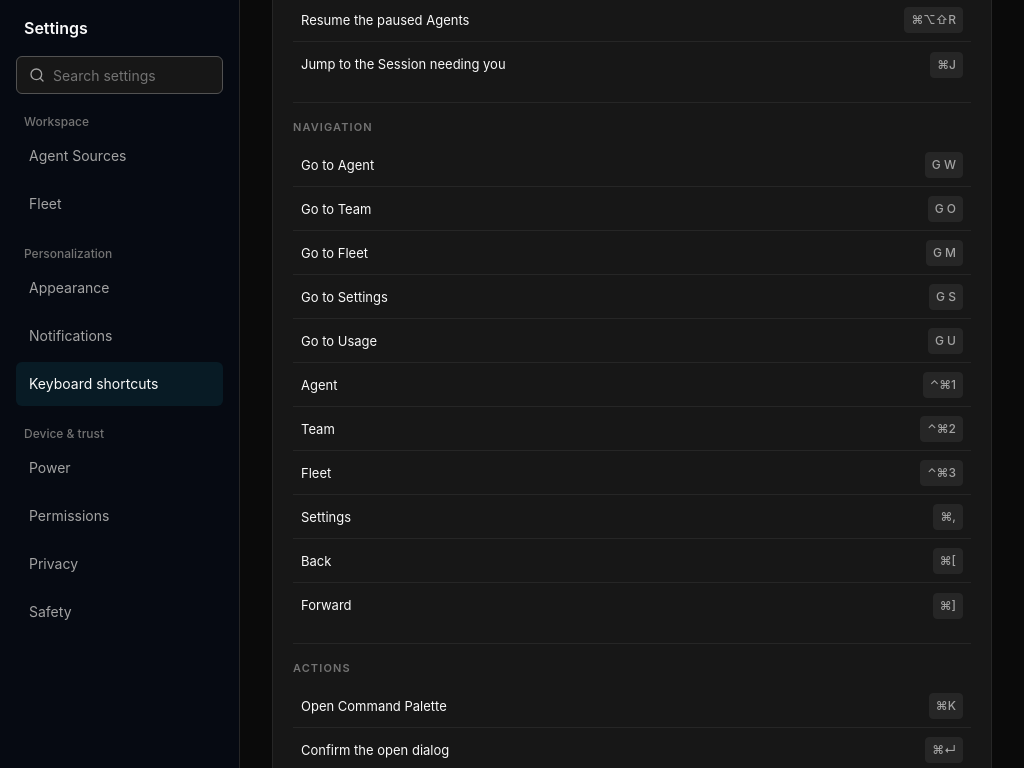
Test case: shortcut settings policy › blocks a combo the machine VERIFIABLY reserves, with the System Settings pointer
(page scrolled)
Click the button "⌃⌘1" at (943, 384), box top-left (923, 371), bottom-right (963, 398)
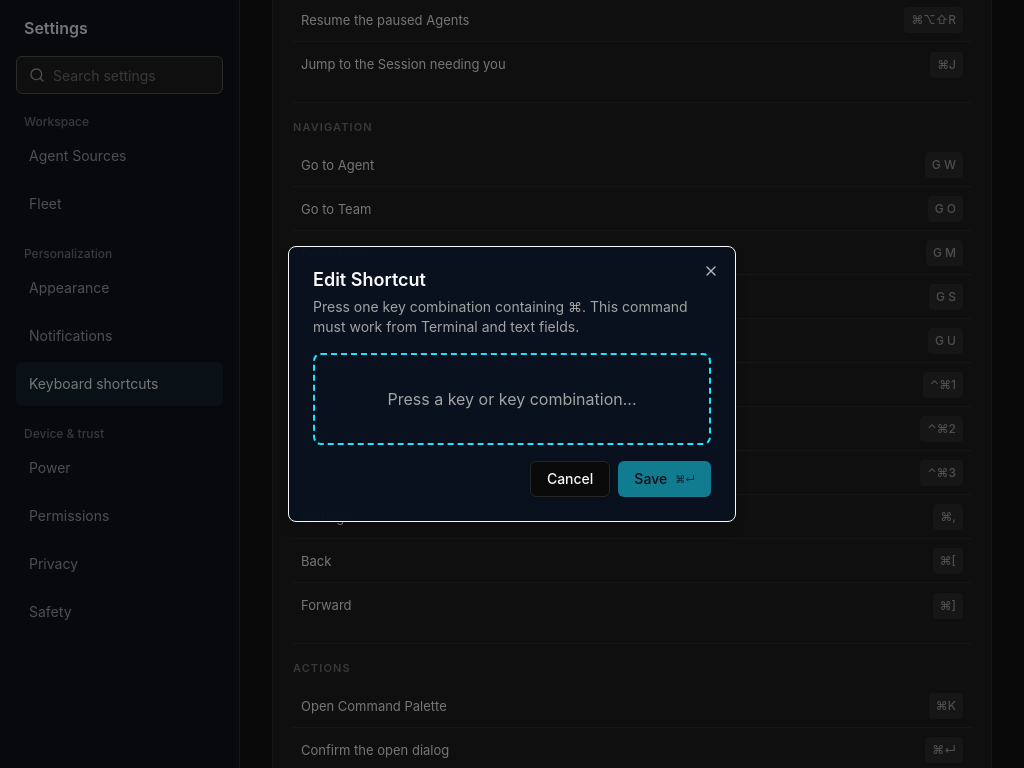
Press $ in the element showing "Press a key or key combination...", box top-left (313, 353), bottom-right (711, 445)
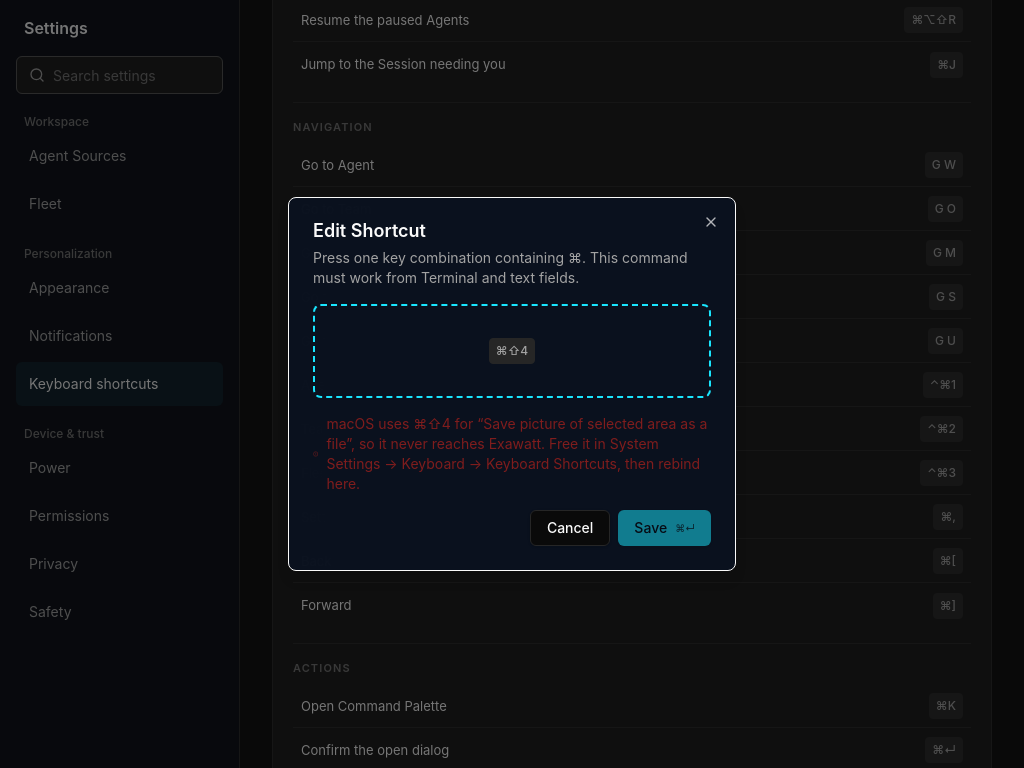
expect the button "Save ⌘↵" is disabled: met, box top-left (618, 510), bottom-right (711, 546)
expect the text "Save picture of selected area" shows "System Settings": met, box top-left (326, 415), bottom-right (707, 492)
